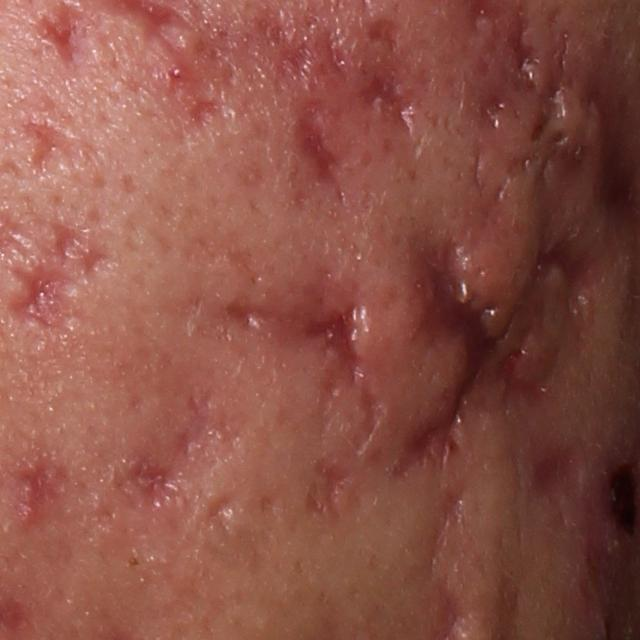atrophic_scar: (392, 239, 519, 482), (223, 279, 384, 454), (117, 394, 239, 511), (506, 230, 600, 344), (3, 259, 83, 338), (289, 92, 343, 200), (523, 436, 600, 509), (10, 446, 76, 531), (354, 69, 428, 134), (18, 117, 93, 178), (303, 456, 359, 524), (530, 45, 569, 141), (493, 150, 539, 205), (504, 3, 537, 75), (51, 217, 88, 258), (193, 493, 231, 532), (474, 92, 510, 133), (365, 17, 401, 55), (188, 99, 227, 130), (80, 242, 112, 278)
hypertrophic_scar: (445, 201, 542, 338), (548, 81, 610, 159)
